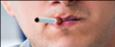Cigarette: (34, 16, 61, 23)
